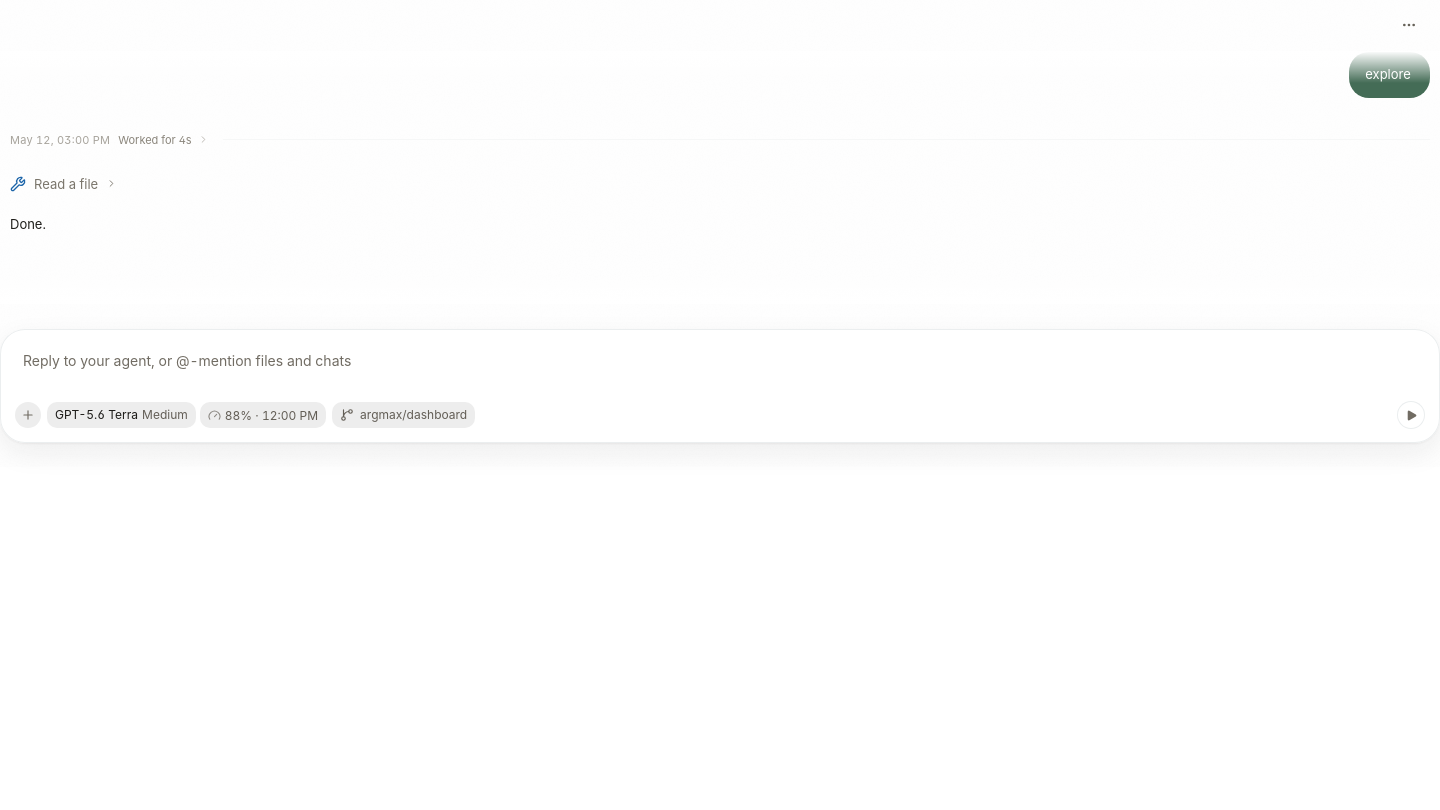
Test: SessionConversation — streaming & composer › expands the Thought block when the turn chip expands the turn
The width and height of the screenshot is (1440, 810).
expect the text "Checking the IPC layer first." is not shown: met
Click the button "Worked for 4s" at x=166, y=140, box [118, 132, 215, 148]
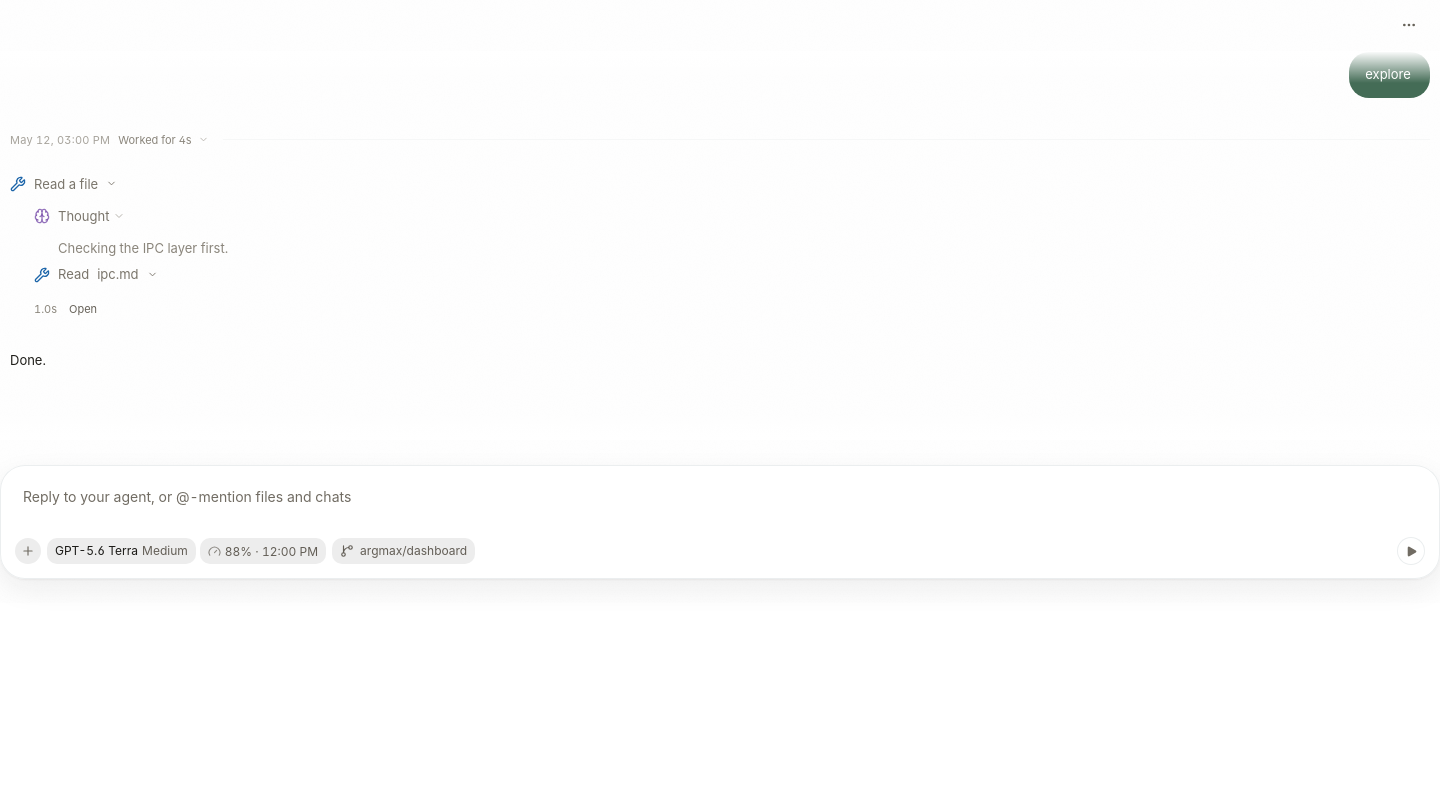
expect the text "Checking the IPC layer first." is shown: met, box [58, 240, 228, 256]
